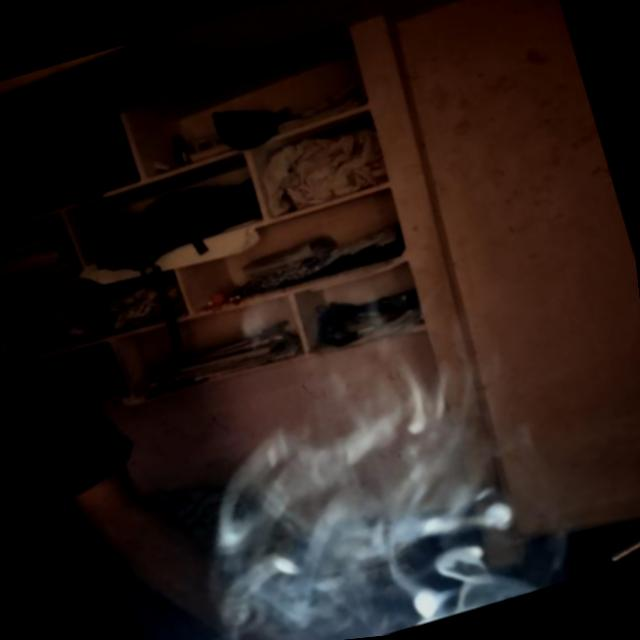smoke: (178, 349, 525, 640)
